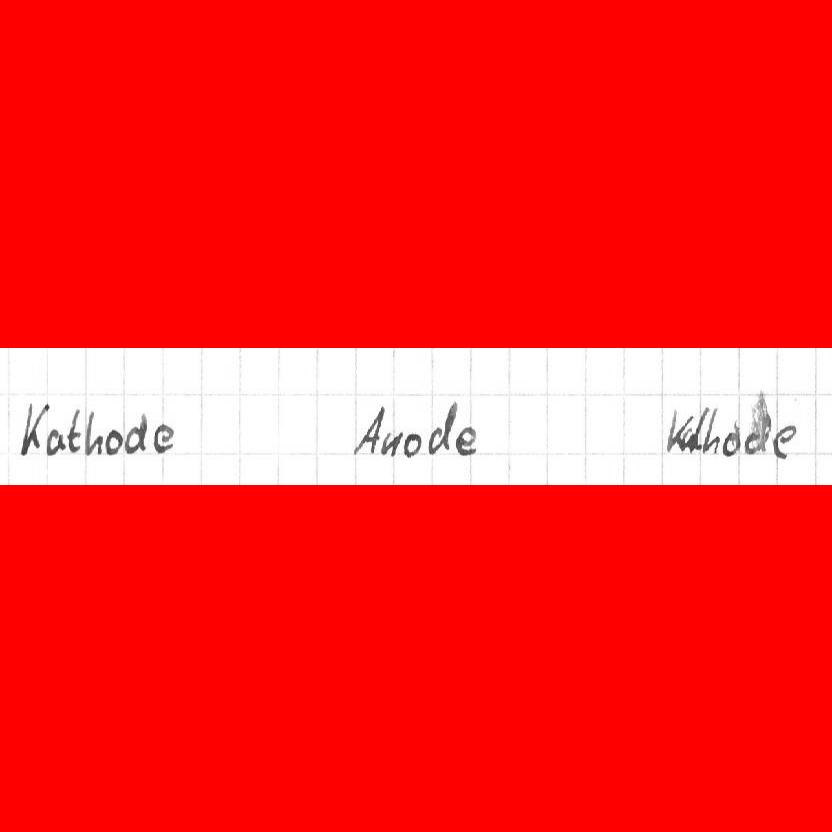Char: (425, 399, 457, 458), (350, 405, 383, 460), (19, 401, 46, 457), (124, 410, 148, 455), (665, 404, 686, 454), (771, 421, 796, 460), (85, 407, 103, 459), (701, 406, 720, 455), (454, 425, 480, 456), (66, 407, 83, 453), (745, 418, 766, 453), (153, 423, 176, 453), (379, 430, 403, 458), (721, 422, 740, 457), (401, 431, 422, 458), (45, 428, 66, 455), (105, 427, 122, 455)
